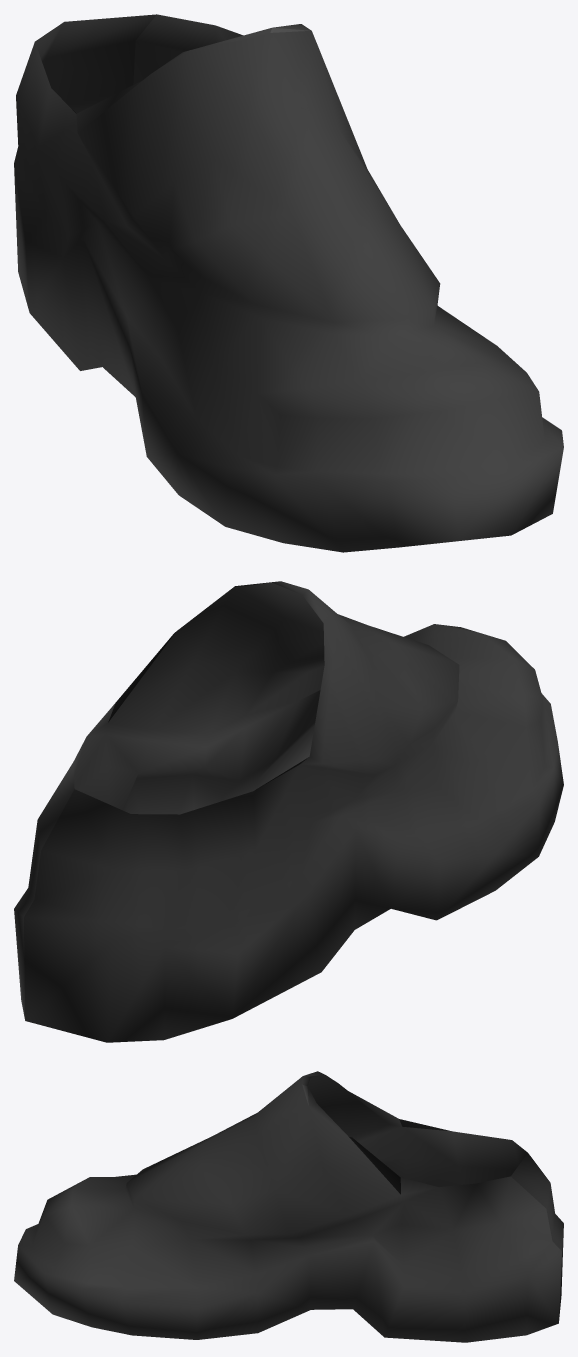
The model's file is footright.fbx.
3 renders of one model, top to bottom at view 1: azimuth 30°, elevation 25°; view 2: azimuth 150°, elevation 25°; view 3: azimuth 270°, elevation 25°, orthographic. The views are drawn at different scales.
Visible parts, largest first — view 1: footright; view 2: footright; view 3: footright.
Part boxes in pixels (x1,y1,x2,y2): footright: (14,14,563,552); footright: (14,581,563,1042); footright: (14,1071,563,1342).
Size of the model in its own units: 8.06 by 9.47 by 21.28.
